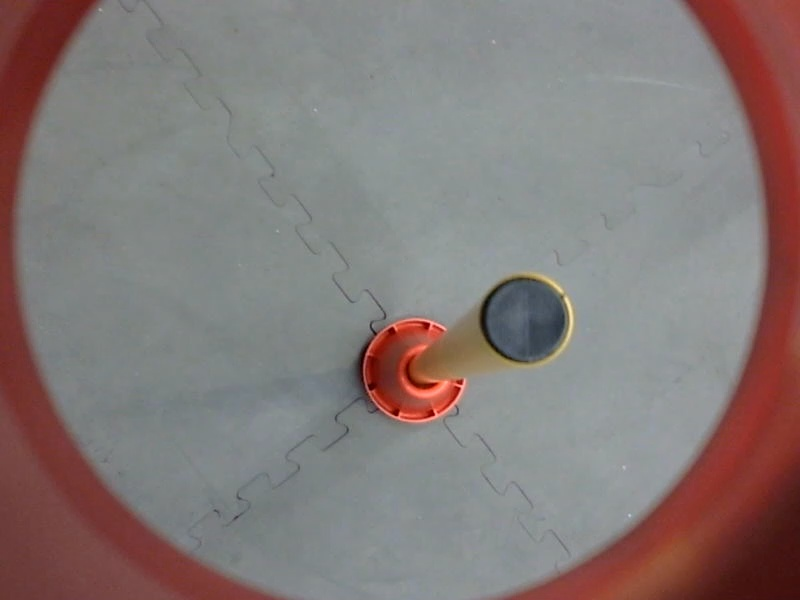tip: (468, 262, 585, 381)
